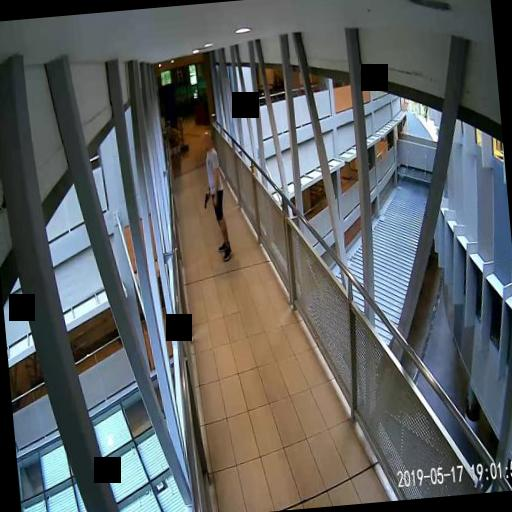Handgun: (202, 191, 210, 207)
